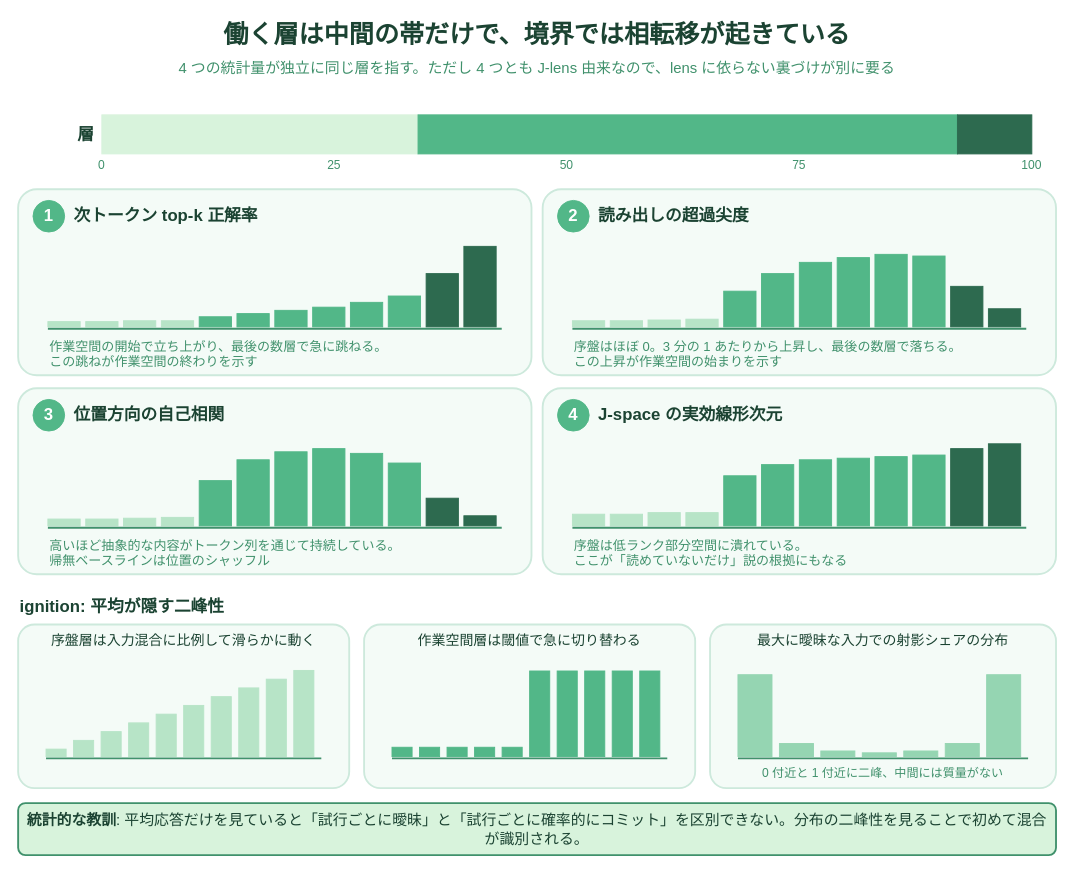
The diagram is 1073 pixels wide and 871 high, and some of its shapes have lost their labels. Each missing label, with the box of its shape:
作業空間 (L38-L92): (417, 114, 957, 154)
感覚 (0-33): (101, 114, 418, 154)
運動: (957, 114, 1032, 154)
